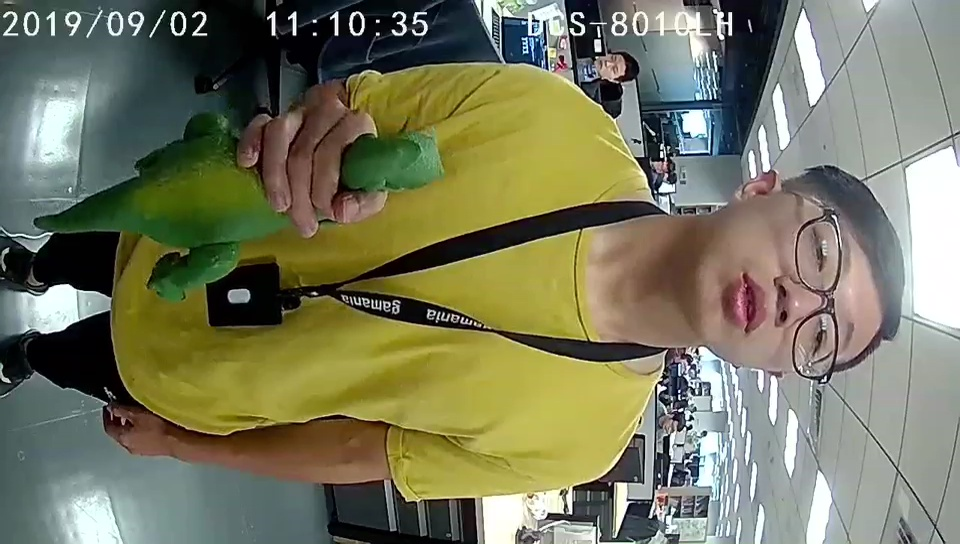rex: (143, 128, 443, 303)
